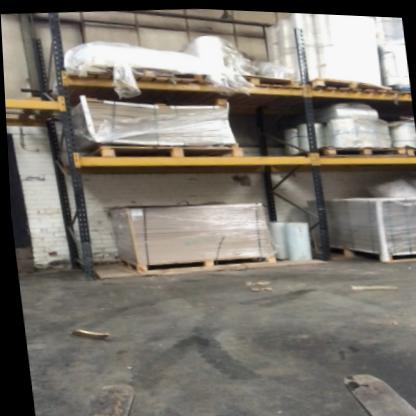vertical_damage: (71, 227, 95, 250)
